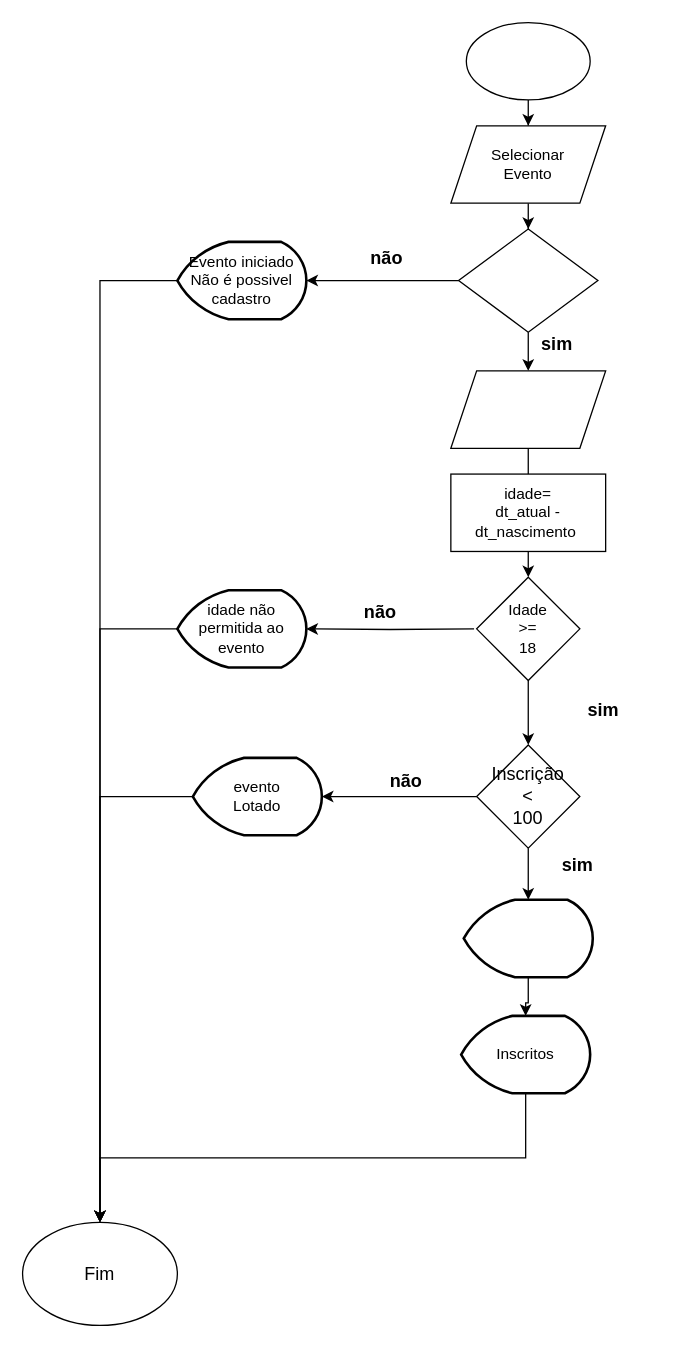
The diagram is 690 pixels wide and 1348 high, and some of its shapes have lost their labels. The centre of each missing label's shape, as x and y in pixels:
Dt_atual < Data evento: (527,280)
Inicio: (527,60)
Ler dt_nascimento: (528,409)
Palestrante: (527,938)
